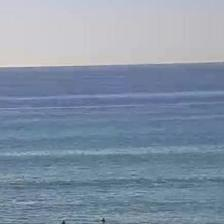surfer: (100, 218, 107, 224), (61, 220, 67, 224)
